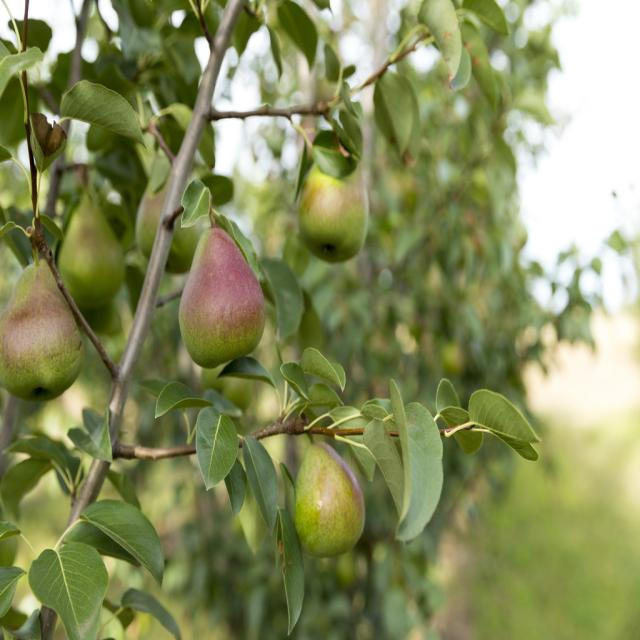pear: (177, 226, 265, 369), (0, 260, 80, 404), (292, 445, 366, 555), (298, 143, 364, 265), (135, 158, 203, 273), (58, 195, 123, 305)
